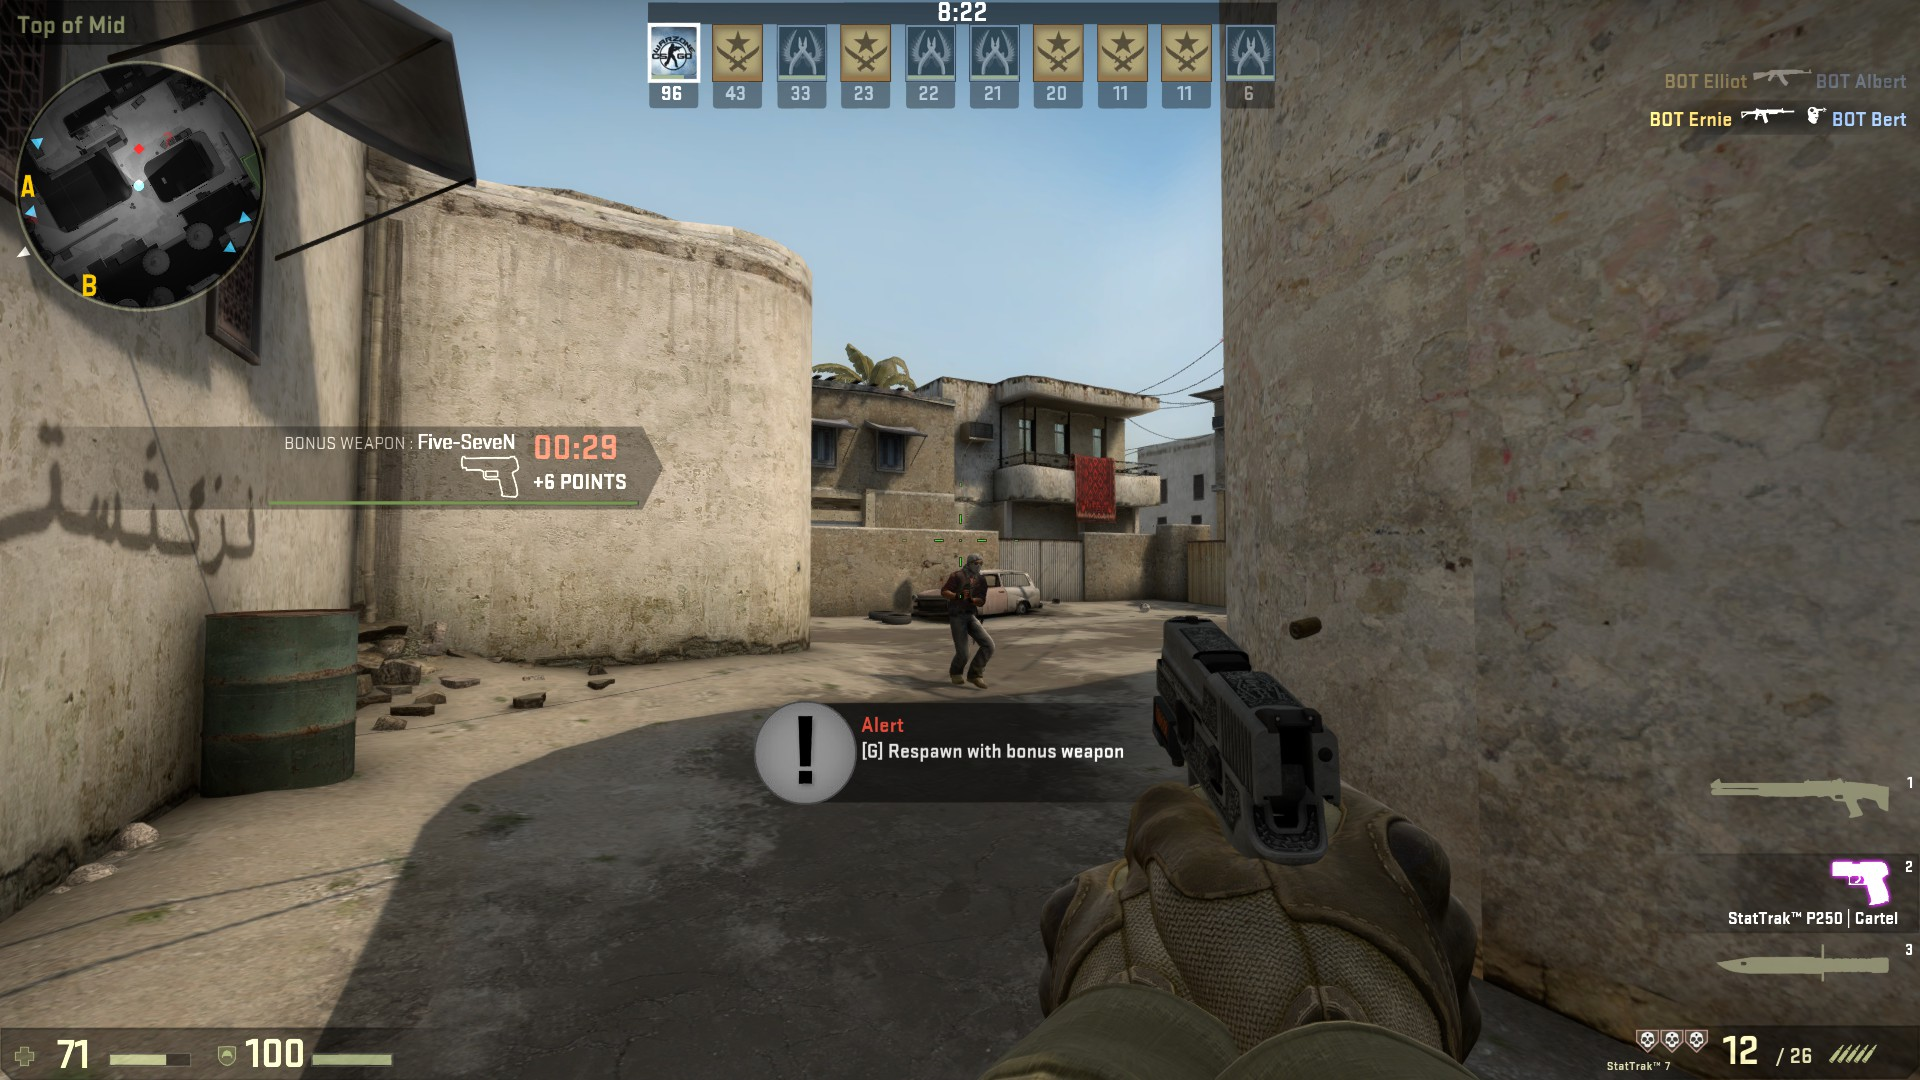t: (940, 550, 996, 688)
th: (961, 551, 986, 576)
